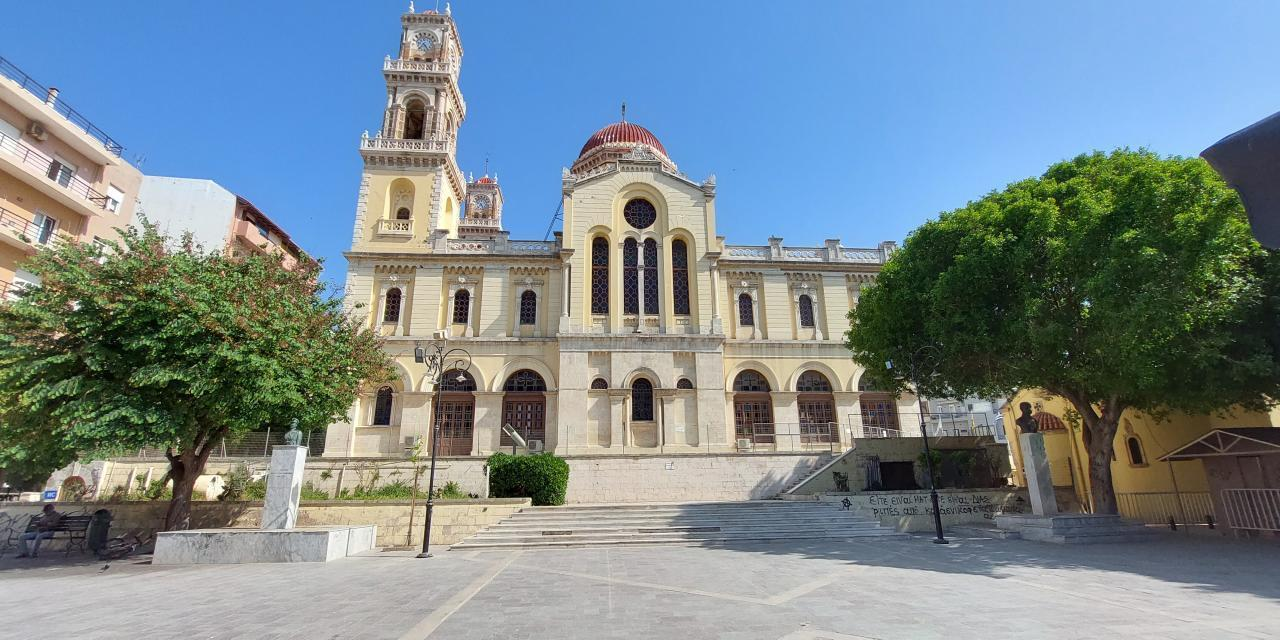Agios Minas: (326, 1, 926, 460)
